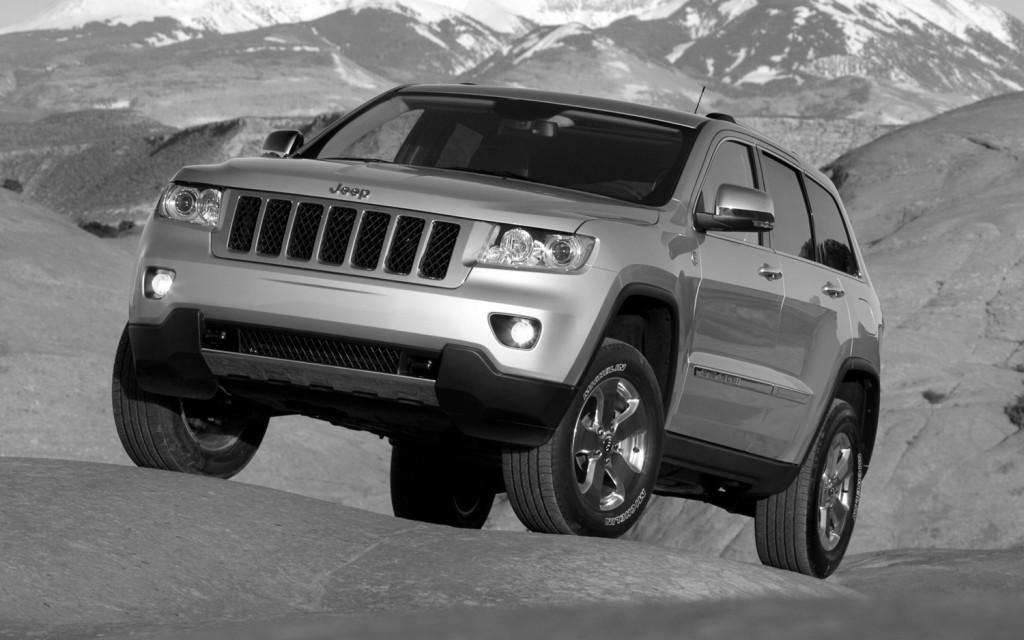car: (111, 82, 886, 584)
